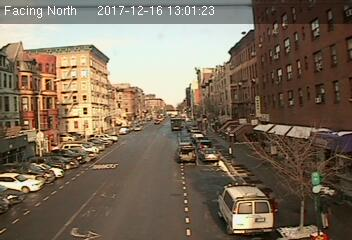car: (178, 143, 197, 164), (201, 147, 220, 163)
police: (220, 180, 273, 233)
ups: (170, 117, 183, 132)
